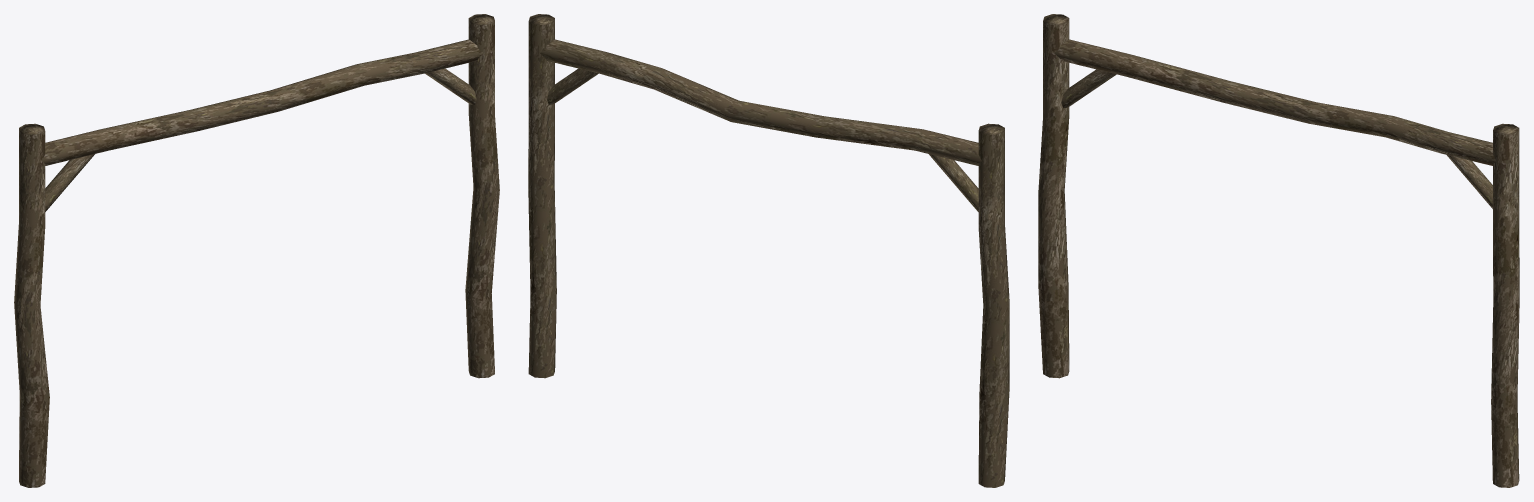
The model's file is Stage_Obj018.fbx.
3 renders of one model, left to right at view 1: azimuth 30°, elevation 25°; view 2: azimuth 150°, elevation 25°; view 3: azimuth 330°, elevation 25°, orthographic.
Visible parts, largest first — view 1: pCylinder3, pCylinder1, pCylinder4, pCylinder5, pCylinder6; view 2: pCylinder3, pCylinder1, pCylinder4, pCylinder5, pCylinder6; view 3: pCylinder3, pCylinder1, pCylinder4, pCylinder5, pCylinder6.
Boxes of the visible parts, x1=… form: pCylinder3: x1=42, y1=39, x2=483, y2=165; pCylinder1: x1=14, y1=123, x2=49, y2=487; pCylinder4: x1=465, y1=14, x2=499, y2=378; pCylinder5: x1=45, y1=154, x2=94, y2=211; pCylinder6: x1=425, y1=68, x2=476, y2=104; pCylinder3: x1=540, y1=39, x2=981, y2=165; pCylinder1: x1=978, y1=123, x2=1009, y2=487; pCylinder4: x1=528, y1=14, x2=556, y2=378; pCylinder5: x1=929, y1=154, x2=978, y2=211; pCylinder6: x1=547, y1=68, x2=598, y2=104; pCylinder3: x1=1054, y1=39, x2=1495, y2=165; pCylinder1: x1=1038, y1=14, x2=1069, y2=378; pCylinder4: x1=1491, y1=123, x2=1519, y2=487; pCylinder5: x1=1061, y1=69, x2=1116, y2=108; pCylinder6: x1=1447, y1=155, x2=1492, y2=208.
Bounding box in the file's own units: 534 × 375 × 45.32.
Materials: 1 (1 with a texture image).
